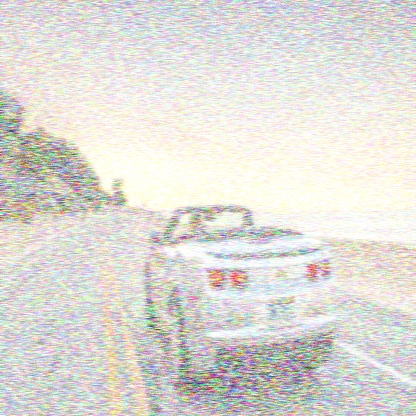Vehicle: (143, 203, 338, 396)
